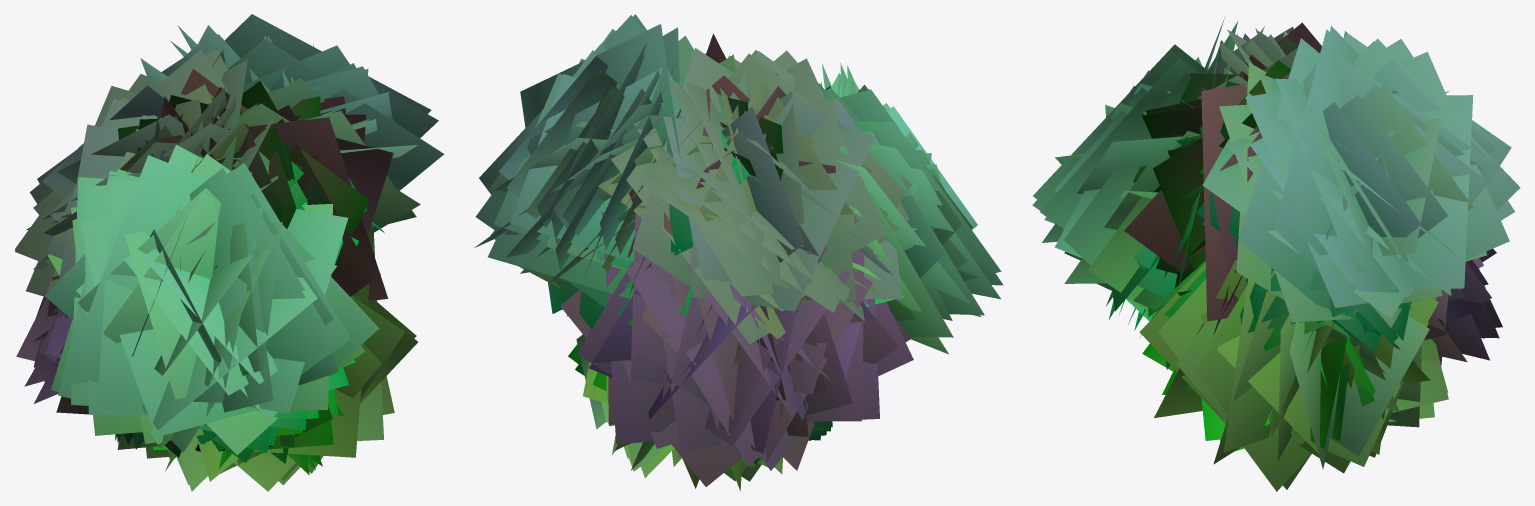
Rendered from Arbusto1.fbx.
The picture shows the model from 3 angles, left to right: view 1: azimuth 30°, elevation 25°; view 2: azimuth 150°, elevation 25°; view 3: azimuth 270°, elevation 25°; orthographic projection.
Visible parts, largest first — view 1: Tree_1; view 2: Tree_1; view 3: Tree_1.
Part boxes in pixels (left/top/right/bottom): Tree_1: left=15, top=14, right=443, bottom=491; Tree_1: left=474, top=14, right=1003, bottom=491; Tree_1: left=1032, top=16, right=1520, bottom=491.
Bounding box in the file's own units: 108 × 109 × 105.
